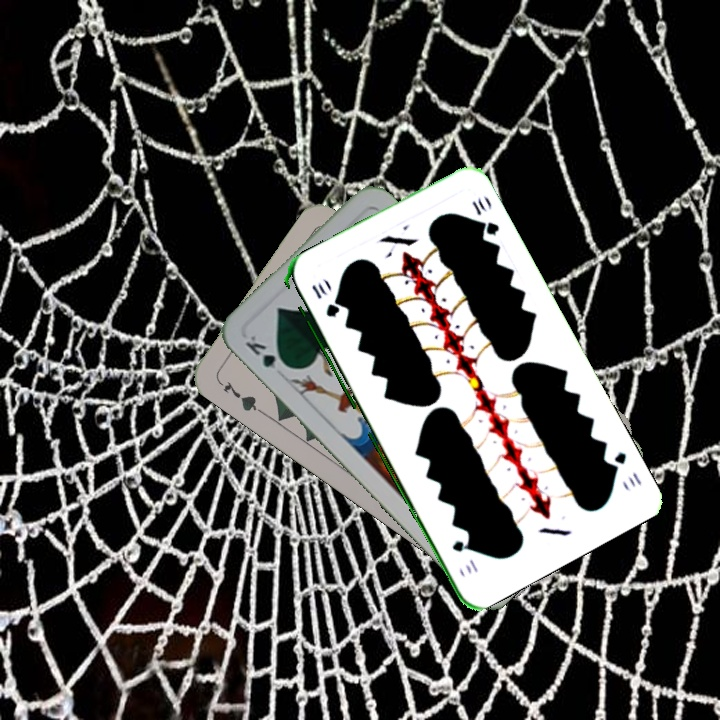G10: (603, 447, 644, 490), (307, 279, 340, 320)
G7: (213, 375, 264, 416)
GK: (241, 330, 292, 380)
